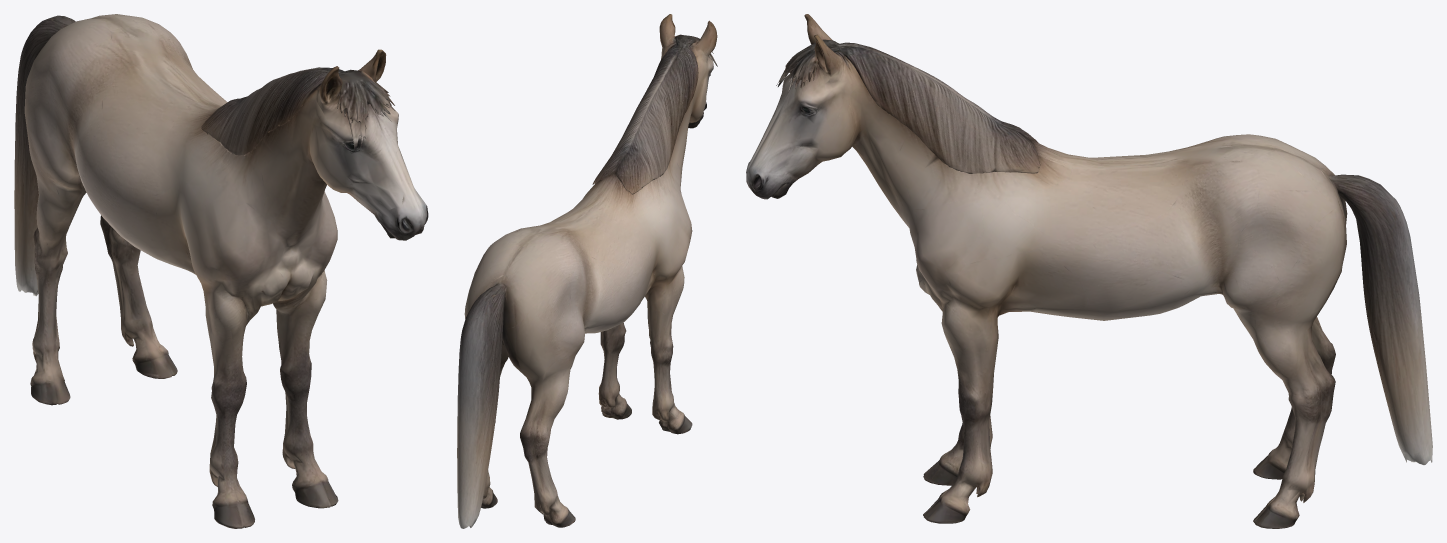
3 renders of one model, left to right at view 1: azimuth 30°, elevation 25°; view 2: azimuth 150°, elevation 25°; view 3: azimuth 270°, elevation 25°, orthographic. The views are drawn at different scales.
Visible parts, largest first — view 1: node_0; view 2: node_0; view 3: node_0.
Boxes of the visible parts, x1,y1,x2,y2 form: node_0: (14,14,428,528); node_0: (457,14,717,528); node_0: (746,14,1432,528).
Size of the model in its own units: 0.2407 by 0.7734 by 1.01.
1 material, 1 textured.
